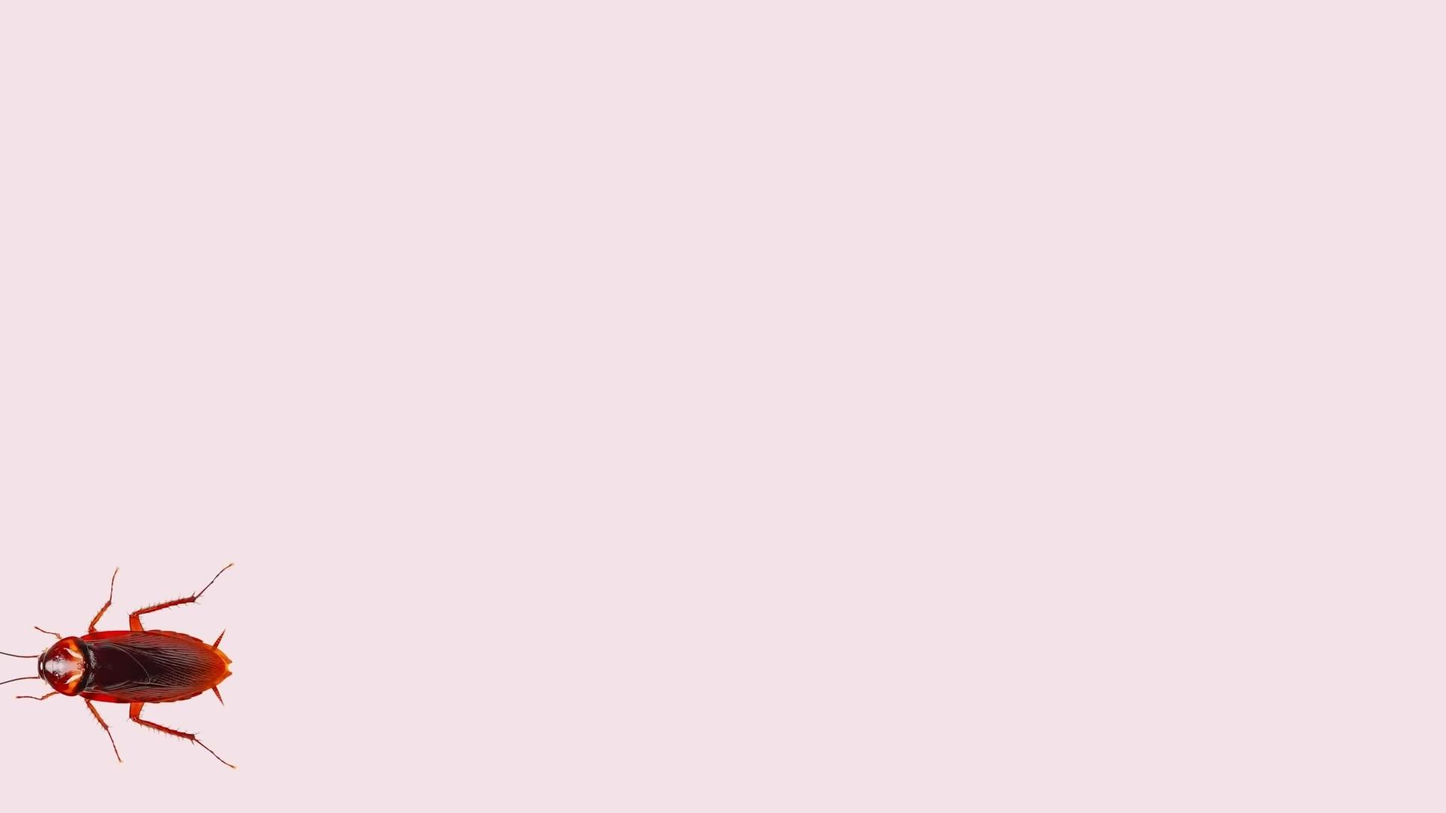cockroach: (0, 563, 236, 755)
